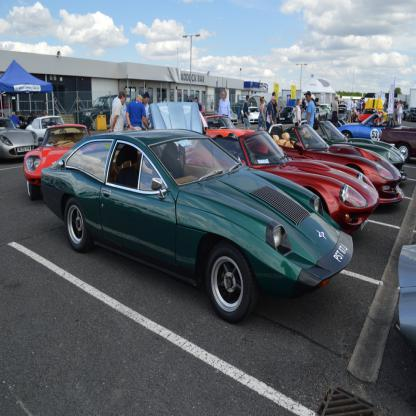Car: (0, 94, 416, 346)
